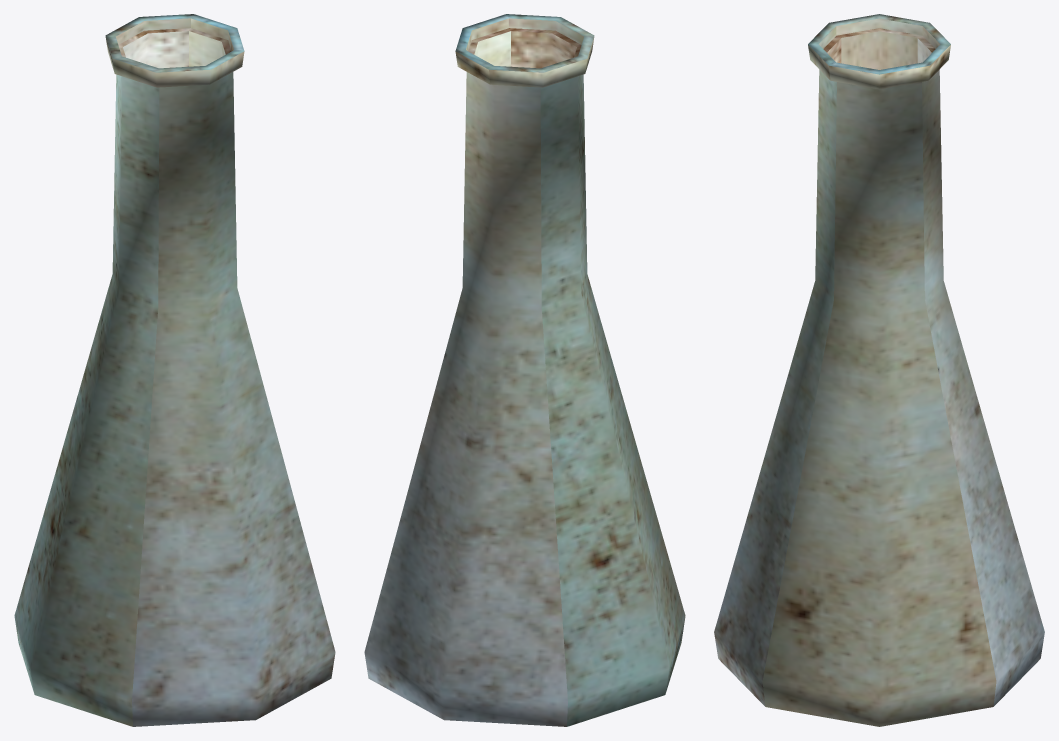
The model's file is buchner_flask.FBX.
3 renders of one model, left to right at view 1: azimuth 30°, elevation 25°; view 2: azimuth 150°, elevation 25°; view 3: azimuth 270°, elevation 25°, orthographic.
Parts seen in each view (by area): view 1: buchner_flask; view 2: buchner_flask; view 3: buchner_flask.
Part boxes in pixels (bbox=[...]): buchner_flask: bbox=[14, 14, 335, 726]; buchner_flask: bbox=[364, 14, 685, 726]; buchner_flask: bbox=[714, 14, 1044, 726].
Bounding box in the file's own units: 19.62 × 40.92 × 19.62.
